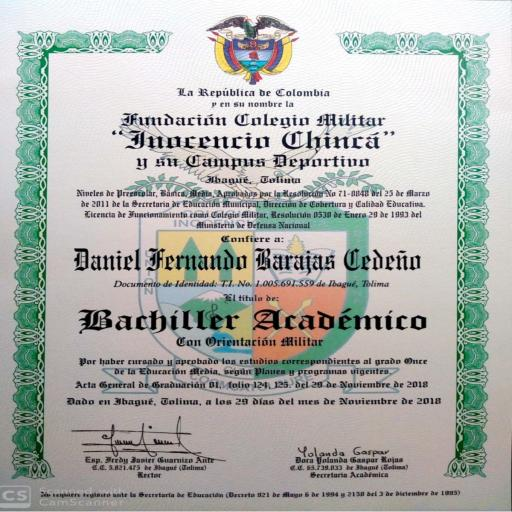bachillerato: (60, 299, 444, 340)
diploma: (0, 0, 512, 510), (0, 0, 511, 510)
escudo: (188, 11, 303, 88)
firma: (50, 408, 232, 486)
institucion: (101, 107, 410, 177)
nombre: (63, 241, 437, 282)
